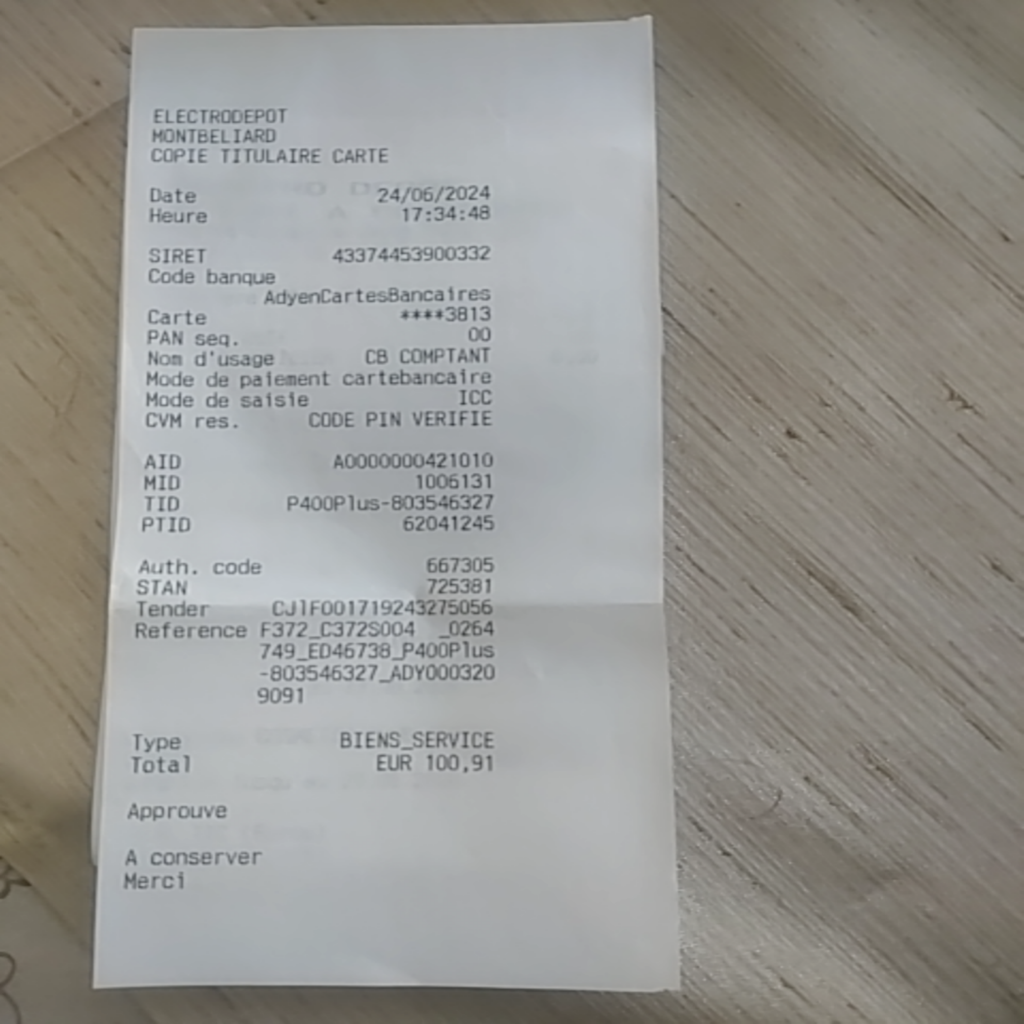recipt: (90, 11, 678, 992)
